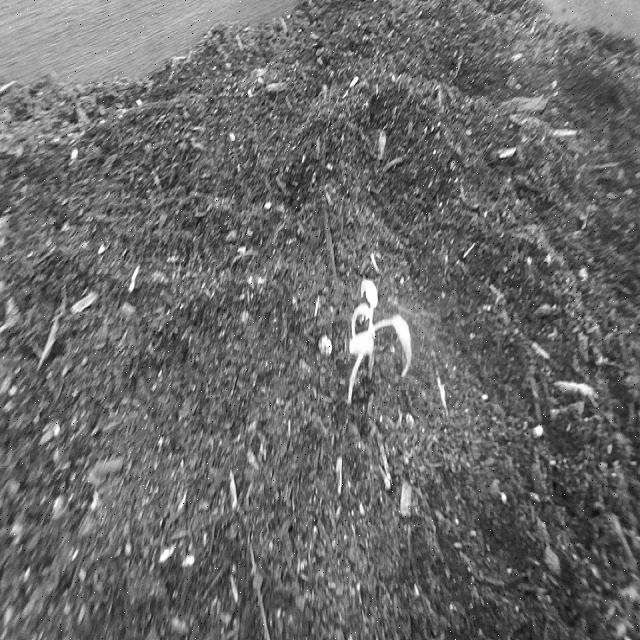Healthy: (339, 272, 415, 428)
